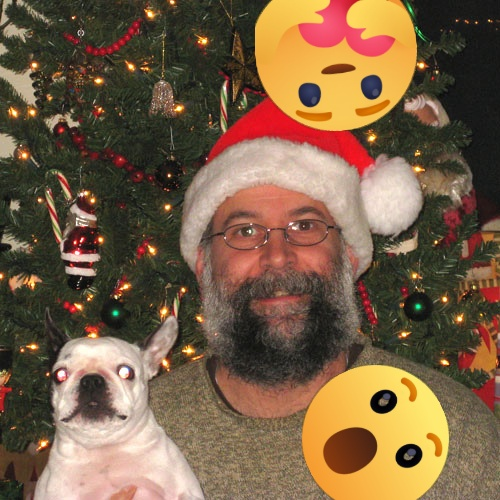care: (255, 0, 417, 131)
wow: (302, 365, 449, 500)
